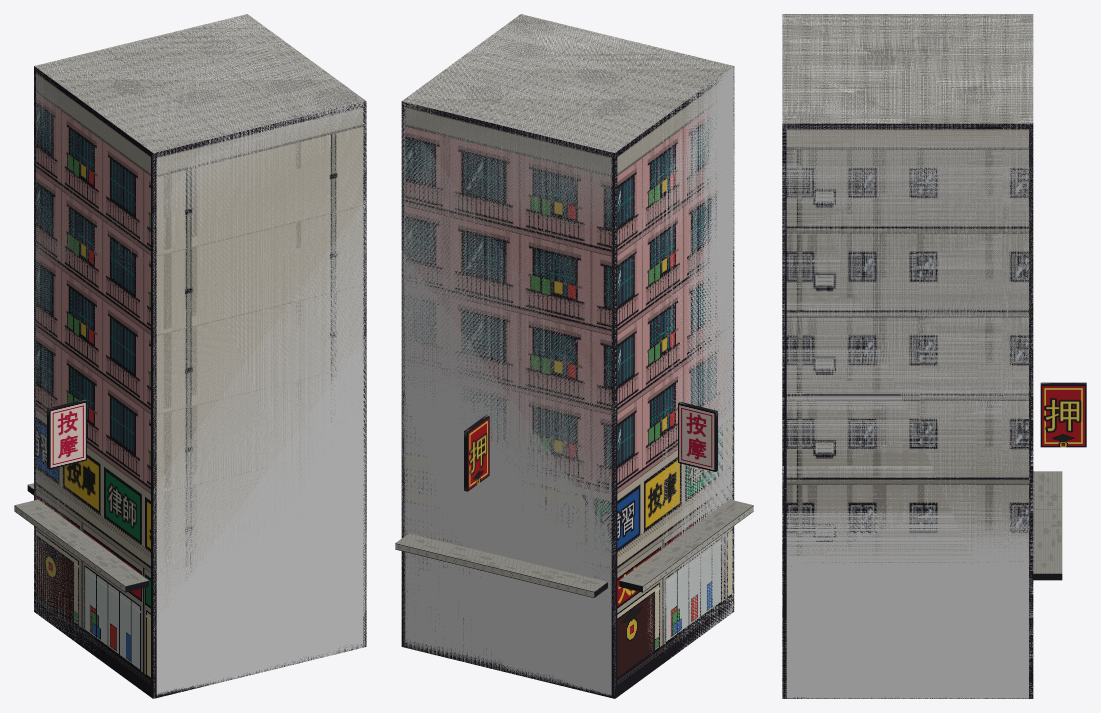
3 views of the same model, side by side, from view 1: azimuth 30°, elevation 25°; view 2: azimuth 150°, elevation 25°; view 3: azimuth 270°, elevation 25° (orthographic). The views are drawn at different scales.
Parts seen in each view (by area): view 1: 19D-W20, COL_19D-W20_0; view 2: 19D-W20, COL_19D-W20_0; view 3: 19D-W20, COL_19D-W20_0.
Part boxes in pixels (x1,y1,x2,y2): 19D-W20: (14, 14, 366, 698); COL_19D-W20_0: (34, 14, 366, 698); 19D-W20: (395, 14, 753, 698); COL_19D-W20_0: (401, 14, 734, 698); 19D-W20: (782, 14, 1086, 698); COL_19D-W20_0: (782, 14, 1033, 698).
Size of the model in its own units: 10.85 by 22 by 10.55.
Materials: 1 (1 with a texture image).
